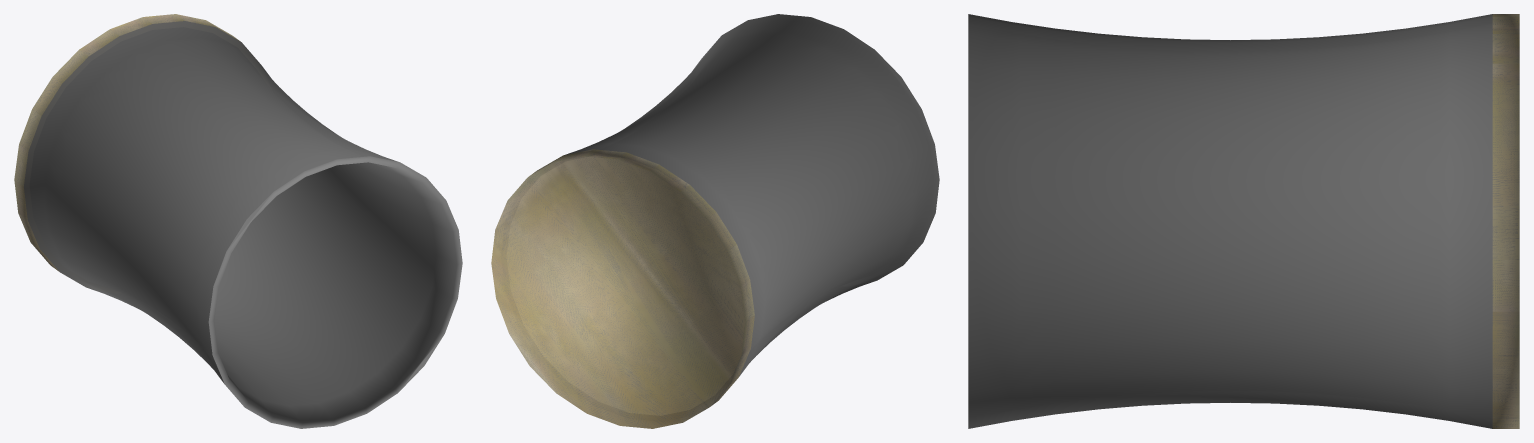
Rendered from model_align.obj.
3 renders of one model, left to right at view 1: azimuth 30°, elevation 25°; view 2: azimuth 150°, elevation 25°; view 3: azimuth 270°, elevation 25°, orthographic. The views are drawn at different scales.
Visible parts, largest first — view 1: mesh1_mesh1-geometry; view 2: mesh1_mesh1-geometry; view 3: mesh1_mesh1-geometry.
Part boxes in pixels (x1,y1,x2,y2): mesh1_mesh1-geometry: (14,14,462,428); mesh1_mesh1-geometry: (491,14,939,428); mesh1_mesh1-geometry: (968,14,1519,428).
Size of the model in its own units: 0.1077 by 0.1077 by 0.1426.
